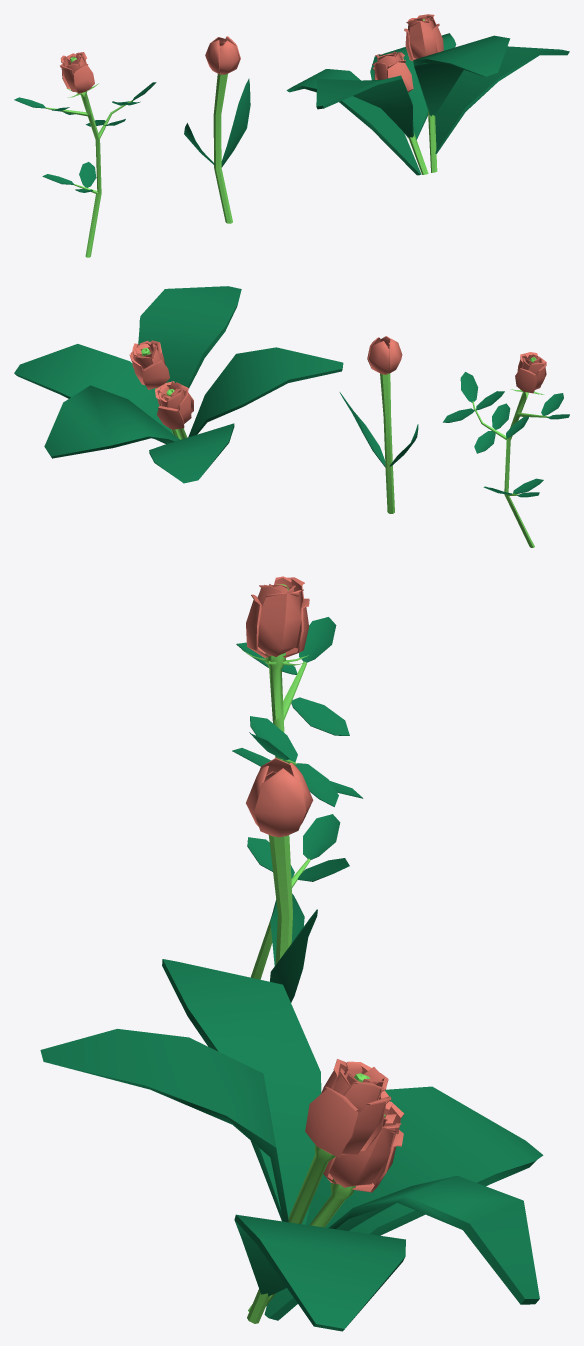
File: M_Flowers1.fbx
3 renders of one model, top to bottom at view 1: azimuth 30°, elevation 25°; view 2: azimuth 150°, elevation 25°; view 3: azimuth 270°, elevation 25°, orthographic. The views are drawn at different scales.
Parts seen in each view (by area): view 1: Flower 3, Flower 2, Flower 1; view 2: Flower 3, Flower 2, Flower 1; view 3: Flower 3, Flower 2, Flower 1.
Part boxes in pixels (x1,y1,x2,y2): Flower 3: (286, 14, 569, 175); Flower 2: (14, 52, 156, 257); Flower 1: (184, 36, 250, 223); Flower 3: (14, 286, 343, 483); Flower 2: (443, 352, 569, 547); Flower 1: (339, 336, 418, 513); Flower 3: (40, 959, 543, 1331); Flower 2: (232, 576, 363, 979); Flower 1: (246, 758, 317, 1002).
Bounding box in the file's own units: 0.7855 × 0.2761 × 0.31.
